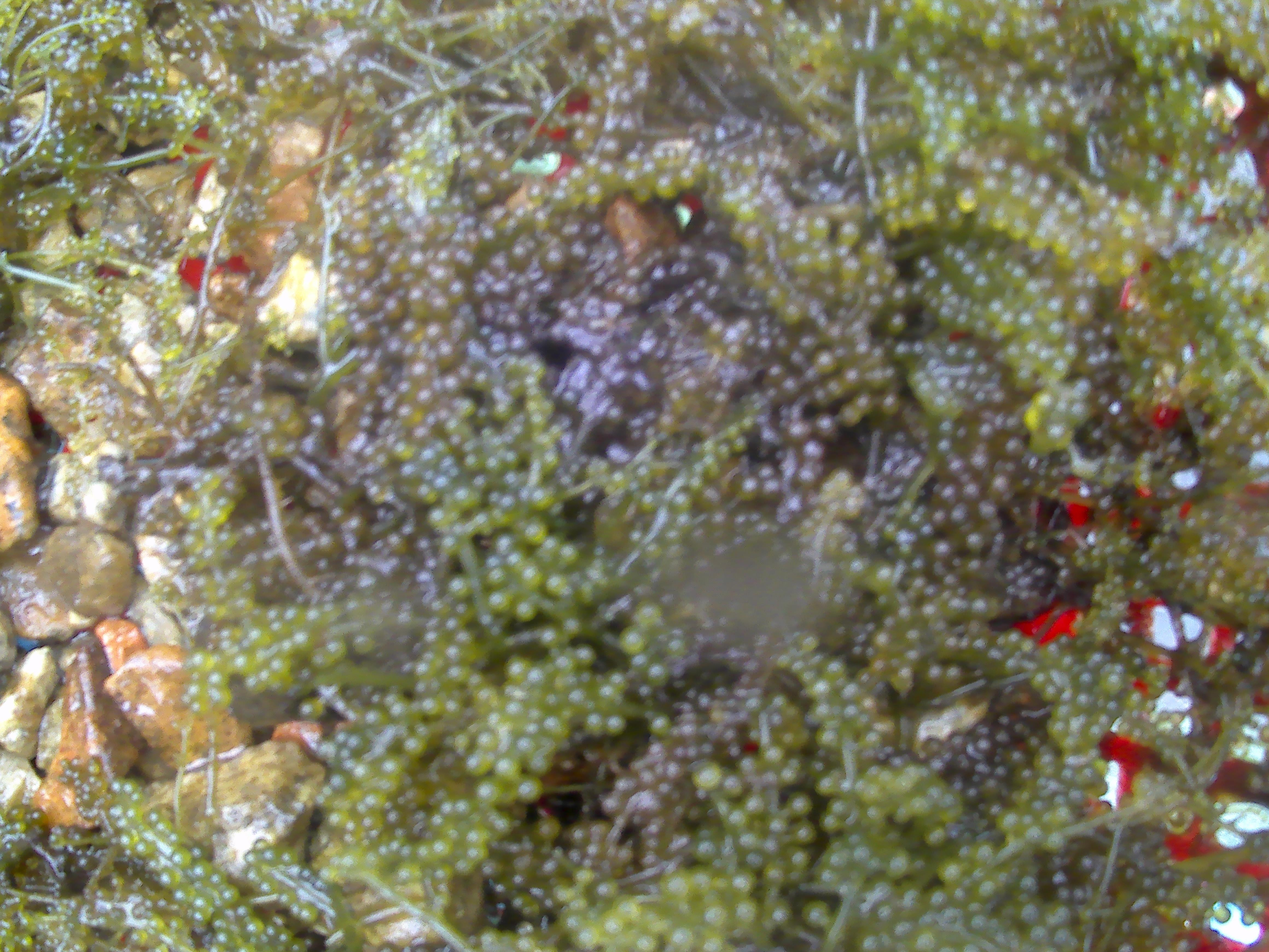Darkening: (1103, 398, 1129, 428), (548, 248, 566, 272), (803, 440, 823, 461), (589, 340, 609, 361), (514, 291, 536, 310), (966, 531, 984, 552), (667, 760, 685, 780), (570, 825, 588, 845), (932, 510, 949, 531), (941, 485, 959, 504), (950, 734, 967, 754), (537, 280, 555, 298), (843, 401, 857, 423), (781, 379, 798, 397), (930, 542, 948, 559), (616, 776, 634, 793), (818, 415, 834, 434), (789, 424, 808, 440), (1009, 435, 1023, 456), (603, 797, 621, 813), (974, 449, 987, 471), (1080, 329, 1099, 344), (860, 393, 874, 413), (963, 781, 976, 802), (884, 368, 901, 384), (1097, 322, 1113, 339), (608, 407, 624, 424), (883, 395, 897, 414), (650, 266, 664, 285), (977, 759, 991, 778), (1059, 570, 1075, 586), (965, 482, 982, 497), (977, 424, 995, 438), (996, 473, 1008, 494), (505, 314, 523, 328), (988, 393, 1007, 406), (493, 281, 509, 296), (649, 742, 664, 758), (982, 503, 999, 517), (1017, 576, 1034, 590), (997, 728, 1011, 744), (640, 768, 654, 784), (1034, 567, 1048, 583), (931, 758, 946, 772), (1012, 751, 1027, 765), (1087, 351, 1101, 366), (954, 461, 967, 475), (954, 507, 968, 520), (1011, 564, 1025, 577), (679, 262, 691, 277), (978, 737, 990, 752), (1002, 572, 1017, 584), (1006, 583, 1017, 598), (771, 362, 783, 375), (956, 760, 970, 771), (929, 741, 941, 751), (979, 722, 988, 734)
Harvestable: (884, 846, 913, 880), (801, 899, 831, 930), (936, 856, 966, 886), (731, 896, 761, 926), (694, 761, 724, 791), (666, 924, 696, 951), (395, 858, 423, 885), (911, 925, 939, 951), (526, 751, 554, 777), (618, 629, 647, 654), (493, 758, 520, 784), (825, 845, 852, 871), (515, 776, 543, 801), (465, 752, 491, 778), (995, 808, 1020, 834), (1044, 903, 1071, 927), (541, 713, 566, 738), (788, 792, 813, 817), (731, 869, 757, 893), (1099, 672, 1124, 696), (655, 175, 679, 200), (792, 821, 816, 845), (924, 825, 948, 849), (763, 861, 787, 885), (525, 521, 549, 545), (957, 186, 979, 212), (433, 860, 456, 884), (235, 652, 258, 676), (924, 0, 947, 24), (453, 795, 477, 818), (502, 698, 526, 721), (926, 886, 949, 909), (726, 809, 749, 832), (475, 781, 498, 803), (515, 718, 540, 738), (487, 592, 509, 614), (516, 735, 538, 757), (828, 797, 851, 818), (208, 669, 231, 690), (575, 643, 594, 668), (508, 661, 529, 683), (893, 918, 915, 939), (763, 744, 785, 765), (918, 134, 939, 156), (527, 702, 548, 724), (454, 857, 476, 878), (330, 772, 352, 793), (1052, 805, 1073, 827), (477, 729, 496, 753), (790, 848, 810, 870), (820, 813, 842, 833), (648, 664, 668, 686), (513, 601, 536, 620), (416, 842, 435, 865), (520, 568, 541, 588), (405, 736, 426, 756), (977, 879, 998, 899), (866, 803, 886, 824), (487, 567, 508, 587), (816, 776, 837, 796), (160, 868, 180, 889), (465, 827, 487, 846), (560, 544, 580, 564), (173, 848, 193, 868), (852, 844, 872, 864), (891, 59, 911, 79), (1029, 924, 1049, 944), (745, 795, 765, 815), (1053, 927, 1073, 947), (420, 697, 442, 715), (586, 713, 604, 735), (353, 765, 373, 784), (676, 169, 695, 189), (605, 716, 626, 734), (969, 913, 988, 932), (746, 850, 765, 869), (1026, 144, 1045, 163), (294, 631, 313, 650), (547, 575, 565, 595), (434, 838, 452, 858), (651, 716, 671, 734), (769, 816, 789, 834), (970, 863, 989, 881), (396, 443, 415, 461), (382, 759, 402, 776), (949, 886, 967, 904), (843, 682, 861, 700), (223, 885, 240, 904), (568, 689, 586, 706), (119, 832, 136, 850), (457, 630, 475, 646), (428, 508, 445, 524), (429, 813, 445, 829), (843, 704, 858, 719), (1075, 693, 1090, 708), (135, 840, 148, 857), (441, 536, 455, 551), (150, 918, 165, 931), (633, 654, 647, 667)
